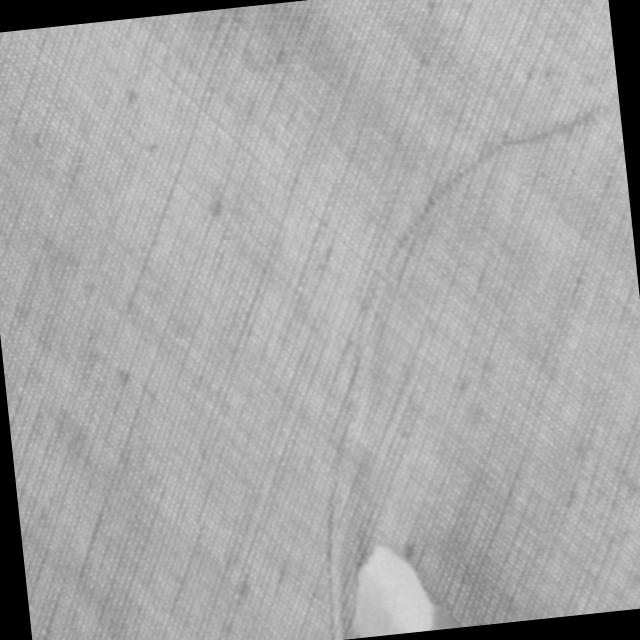objects: (271, 95, 640, 639), (341, 534, 464, 638)
